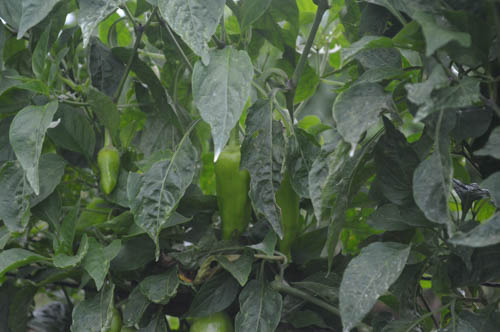ChiliPepper: (211, 147, 254, 239), (262, 180, 302, 250), (98, 149, 124, 196)
